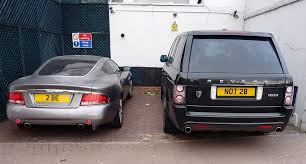number_plate: (208, 83, 266, 103), (28, 91, 78, 106)
